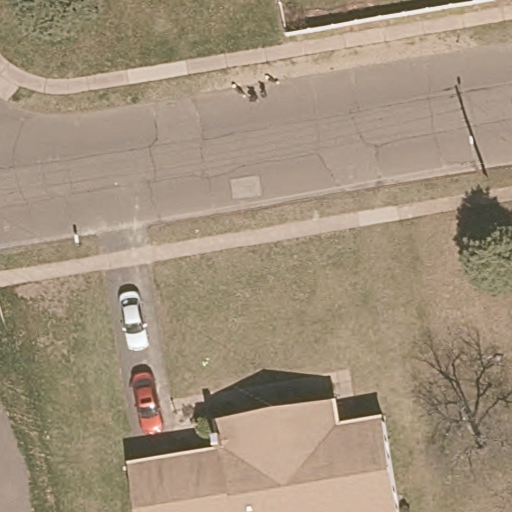DT: (468, 126, 489, 179)
